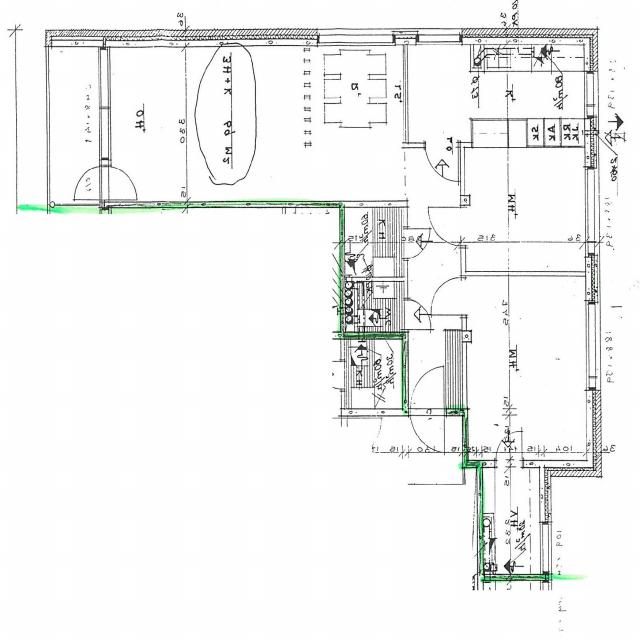door: (411, 370, 444, 416), (411, 409, 444, 454), (431, 208, 468, 245), (432, 278, 468, 315), (70, 166, 110, 198), (99, 166, 137, 198), (497, 430, 522, 468), (404, 229, 434, 258), (404, 300, 433, 329)
